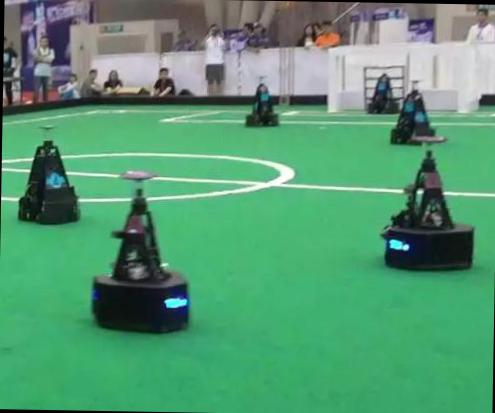goal: (456, 45, 467, 112), (327, 47, 337, 112)
robot: (92, 171, 189, 331), (383, 150, 472, 268), (17, 140, 78, 223), (390, 87, 433, 143), (362, 66, 403, 113), (244, 82, 278, 126)
